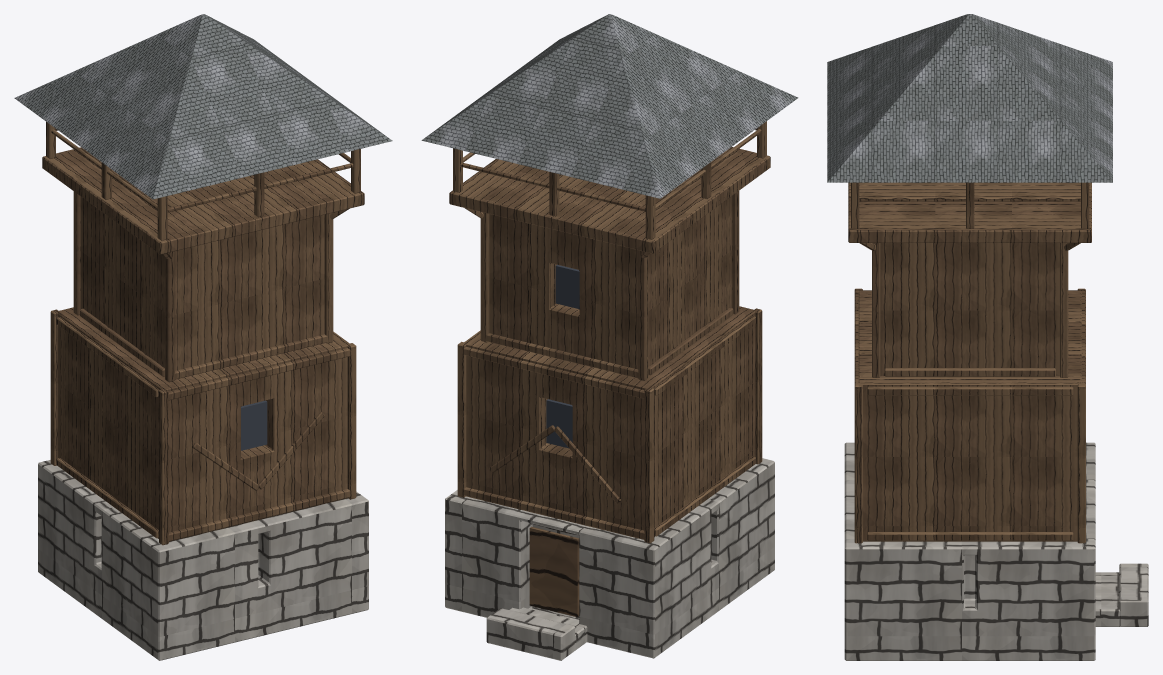
Rendered from watchtower-authored.glb.
3 renders of one model, left to right at view 1: azimuth 30°, elevation 25°; view 2: azimuth 150°, elevation 25°; view 3: azimuth 270°, elevation 25°, orthographic. The views are drawn at different scales.
Visible parts, largest first — view 1: Shaft, Base, Roof, panel.002; view 2: Shaft, Base, Roof, panel, panel.001, panel.003; view 3: Shaft, Roof, Base.
Part boxes in pixels (x1,y1,x2,y2): Shaft: (42,121,364,545); Base: (38,460,368,660); Roof: (14,14,392,199); panel.002: (241,400,267,450); Shaft: (449,121,770,543); Base: (445,458,774,660); Roof: (421,14,798,198); panel: (529,526,579,616); panel.001: (546,399,572,448); panel.003: (555,264,579,309); Shaft: (848,182,1091,543); Roof: (827,14,1112,182); Base: (844,442,1148,660).
Bounding box in the file's own units: 4.1 × 9.4 × 4.61.
Materials: 4 (3 with a texture image).
